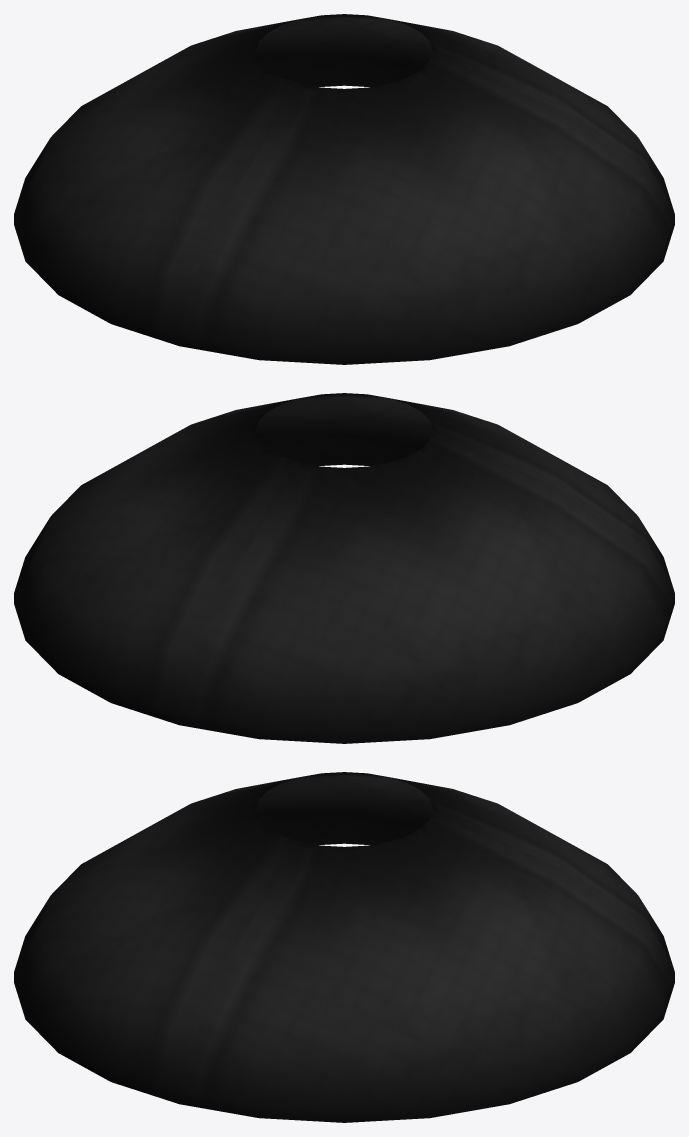
The model's file is male  cover.obj.
The picture shows the model from 3 angles, top to bottom: view 1: azimuth 30°, elevation 25°; view 2: azimuth 150°, elevation 25°; view 3: azimuth 270°, elevation 25°; orthographic projection.
Parts seen in each view (by area): view 1: SSVP_probe_hatch_ssvp_hatch; view 2: SSVP_probe_hatch_ssvp_hatch; view 3: SSVP_probe_hatch_ssvp_hatch.
Boxes of the visible parts, x1,y1,x2,y2 form: SSVP_probe_hatch_ssvp_hatch: (14, 14, 674, 364); SSVP_probe_hatch_ssvp_hatch: (14, 393, 674, 743); SSVP_probe_hatch_ssvp_hatch: (14, 772, 674, 1122).
Bounding box in the file's own units: 0.4229 × 0.1227 × 0.4229.
1 material, 1 textured.
